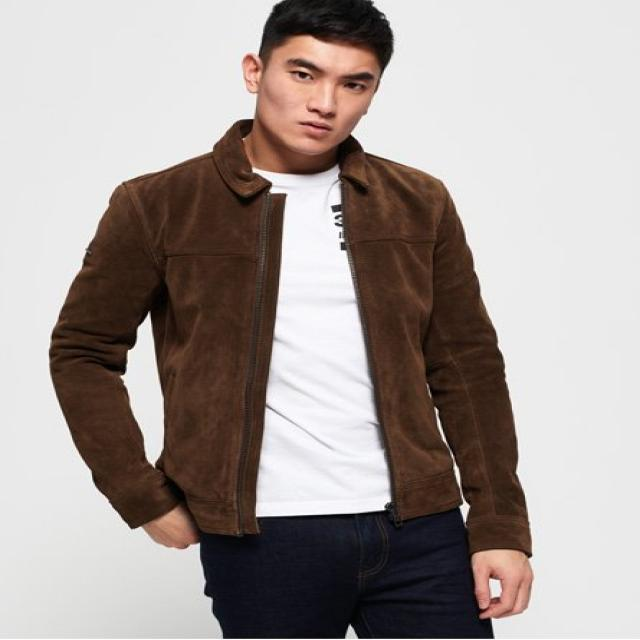human: (38, 4, 550, 640)
